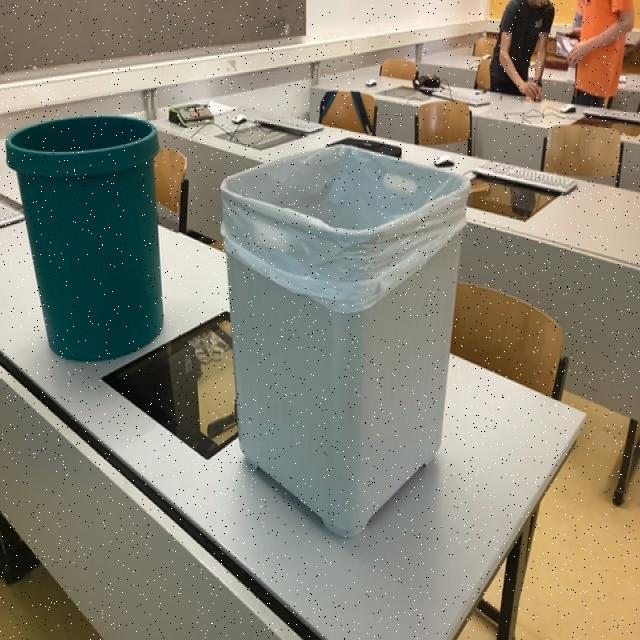garbage container: (209, 128, 481, 552), (0, 87, 188, 375)
